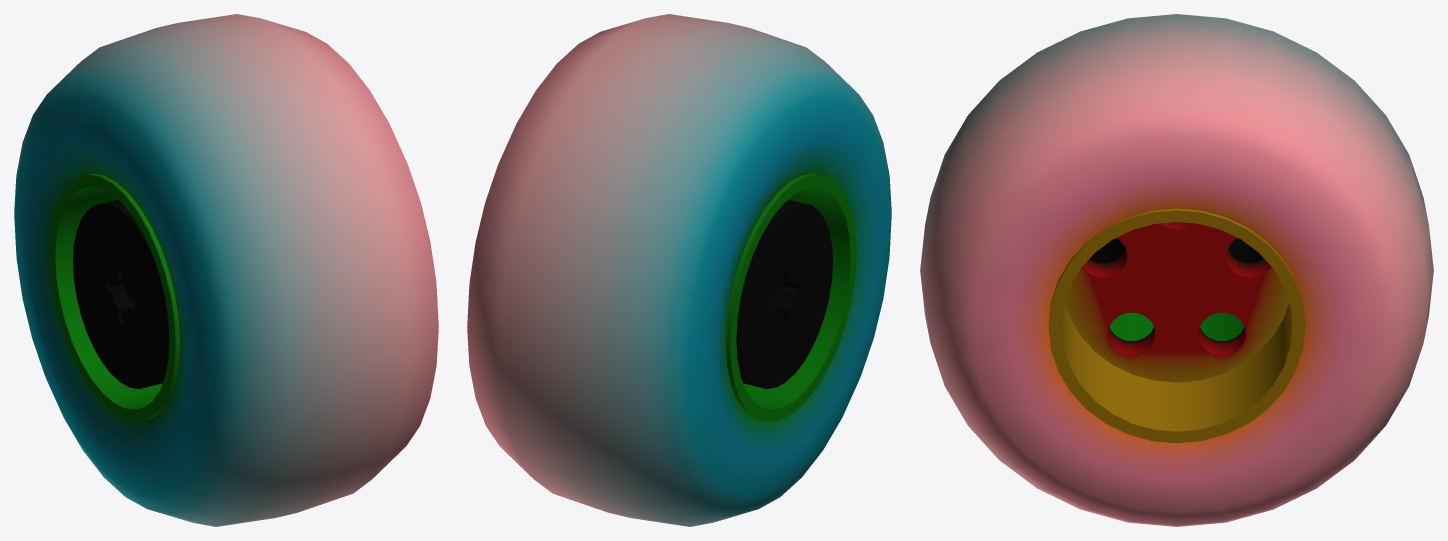
File: SM_DragWheel_4x2.gltf
The picture shows the model from 3 angles, left to right: view 1: azimuth 30°, elevation 25°; view 2: azimuth 150°, elevation 25°; view 3: azimuth 270°, elevation 25°; orthographic projection.
Parts seen in each view (by area): view 1: SM_DragWheel_4x2; view 2: SM_DragWheel_4x2; view 3: SM_DragWheel_4x2.
Boxes of the visible parts, x1,y1,x2,y2 form: SM_DragWheel_4x2: [14, 14, 438, 526]; SM_DragWheel_4x2: [467, 14, 891, 526]; SM_DragWheel_4x2: [920, 14, 1433, 526].
Size of the model in its own units: 0.6385 by 1.2 by 1.2.
